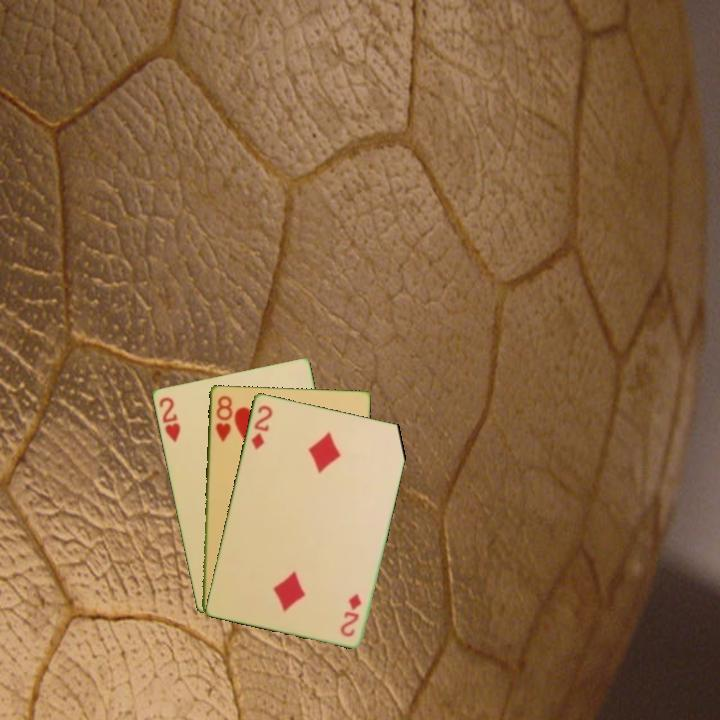2d: (248, 401, 275, 453), (338, 590, 364, 639)
2h: (155, 393, 183, 445)
8h: (212, 392, 235, 444)
